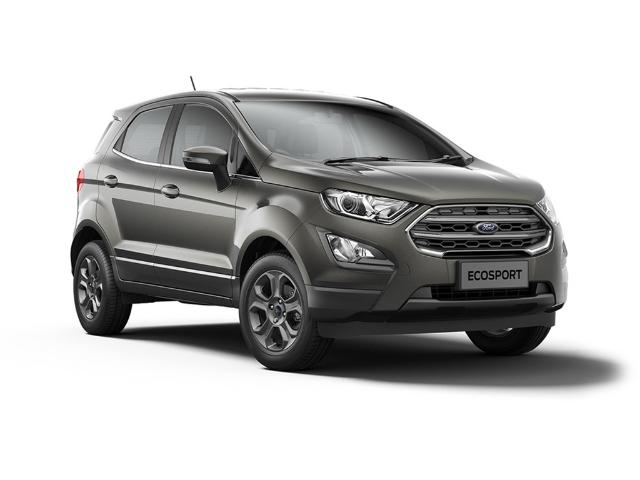ford: (70, 76, 568, 371)
